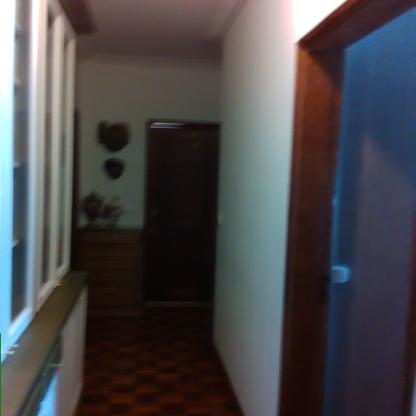closed: (140, 111, 230, 313)
open: (277, 0, 416, 416)
